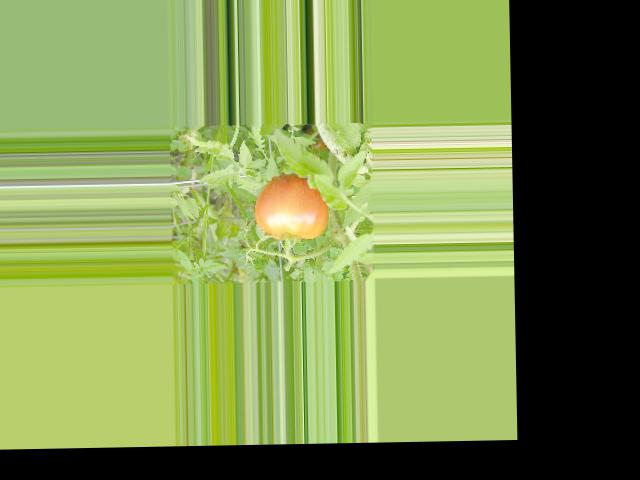tomato: (254, 174, 328, 241)
